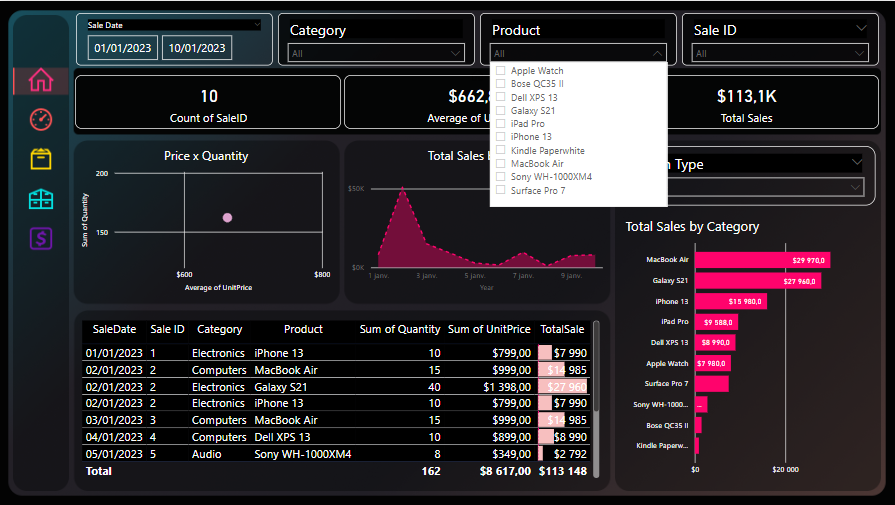

Layout of this report page (visuals, bound fields, positions):
{"tool":"powerbi","page":{"name":"Sales Dashboard","canvas":[1280,720],"ordinal":0},"visuals":[{"type":"slicer","fields":{"Values":["DataSet.SaleDate"]},"box":[110.6,17,280.6,75.1],"z":0},{"type":"slicer","fields":{"Values":["DataSet.Category"]},"box":[398.3,17,280.6,75.1],"z":1000},{"type":"slicer","fields":{"Values":["DataSet.Product"]},"box":[687.4,17,280.6,75.1],"z":2000},{"type":"slicer","fields":{"Values":["DataSet.SaleID"]},"box":[975.1,17,280.6,75.1],"z":3000},{"type":"clusteredBarChart","title":"Total Sales by Category","fields":{"Category":["DataSet.Product"],"Y":["DataMeasures.TotalSale"]},"box":[890.1,309,365.7,378.4],"z":4000},{"type":"slicer","fields":{"Values":["Z_CategoryProduct.Z_CategoryProduct"]},"box":[887.7,207.7,365.2,85.2],"z":5000},{"type":"card","fields":{"Values":["Count(DataSet.SaleID)"]},"box":[109.1,106.3,379.8,76.5],"z":6000},{"type":"card","fields":{"Values":["Avg(DataSet.UnitPrice)"]},"box":[493.2,106.3,379.8,76.5],"z":7000},{"type":"card","fields":{"Values":["DataMeasures.TotalSale"]},"box":[877.3,106.3,379.8,76.5],"z":8000},{"type":"scatterChart","title":"Price x Quantity","fields":{"X":["Avg(DataSet.UnitPrice)"],"Y":["Sum(DataSet.Quantity)"]},"box":[113.4,208.3,365.7,212.6],"z":9000},{"type":"tableEx","fields":{"Values":["DataSet.SaleDate","DataSet.SaleID","DataSet.Category","DataSet.Product","Sum(DataSet.Quantity)","Sum(DataSet.UnitPrice)","DataMeasures.TotalSale"]},"box":[113.4,452.1,749.8,235.3],"z":10000},{"type":"areaChart","title":"Total Sales by Year","fields":{"Category":["DataSet.SaleDate.Variation.Date Hierarchy.Year","DataSet.SaleDate.Variation.Date Hierarchy.Quarter","DataSet.SaleDate.Variation.Date Hierarchy.Month","DataSet.SaleDate.Variation.Date Hierarchy.Day"],"Y":["DataMeasures.TotalSale"]},"box":[493,208,380,213],"z":11000}]}

Visuals, with their boxes on the page's 1280x720 design canvas (x1, y1, x2, y2). These are canvas units, not pixel positions in the 895x505 screenshot, which may show the page scaled, cropped or inside an application window:
slicer - DataSet.SaleDate: (111, 17, 391, 92)
slicer - DataSet.Category: (398, 17, 679, 92)
slicer - DataSet.Product: (687, 17, 968, 92)
slicer - DataSet.SaleID: (975, 17, 1256, 92)
"Total Sales by Category" clusteredBarChart: (890, 309, 1256, 687)
slicer - Z_CategoryProduct.Z_CategoryProduct: (888, 208, 1253, 293)
card - Count(DataSet.SaleID): (109, 106, 489, 183)
card - Avg(DataSet.UnitPrice): (493, 106, 873, 183)
card - DataMeasures.TotalSale: (877, 106, 1257, 183)
"Price x Quantity" scatterChart: (113, 208, 479, 421)
tableEx - DataSet.SaleDate x DataSet.SaleID: (113, 452, 863, 687)
"Total Sales by Year" areaChart: (493, 208, 873, 421)
